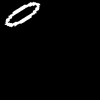chain: (5, 2, 39, 26)
